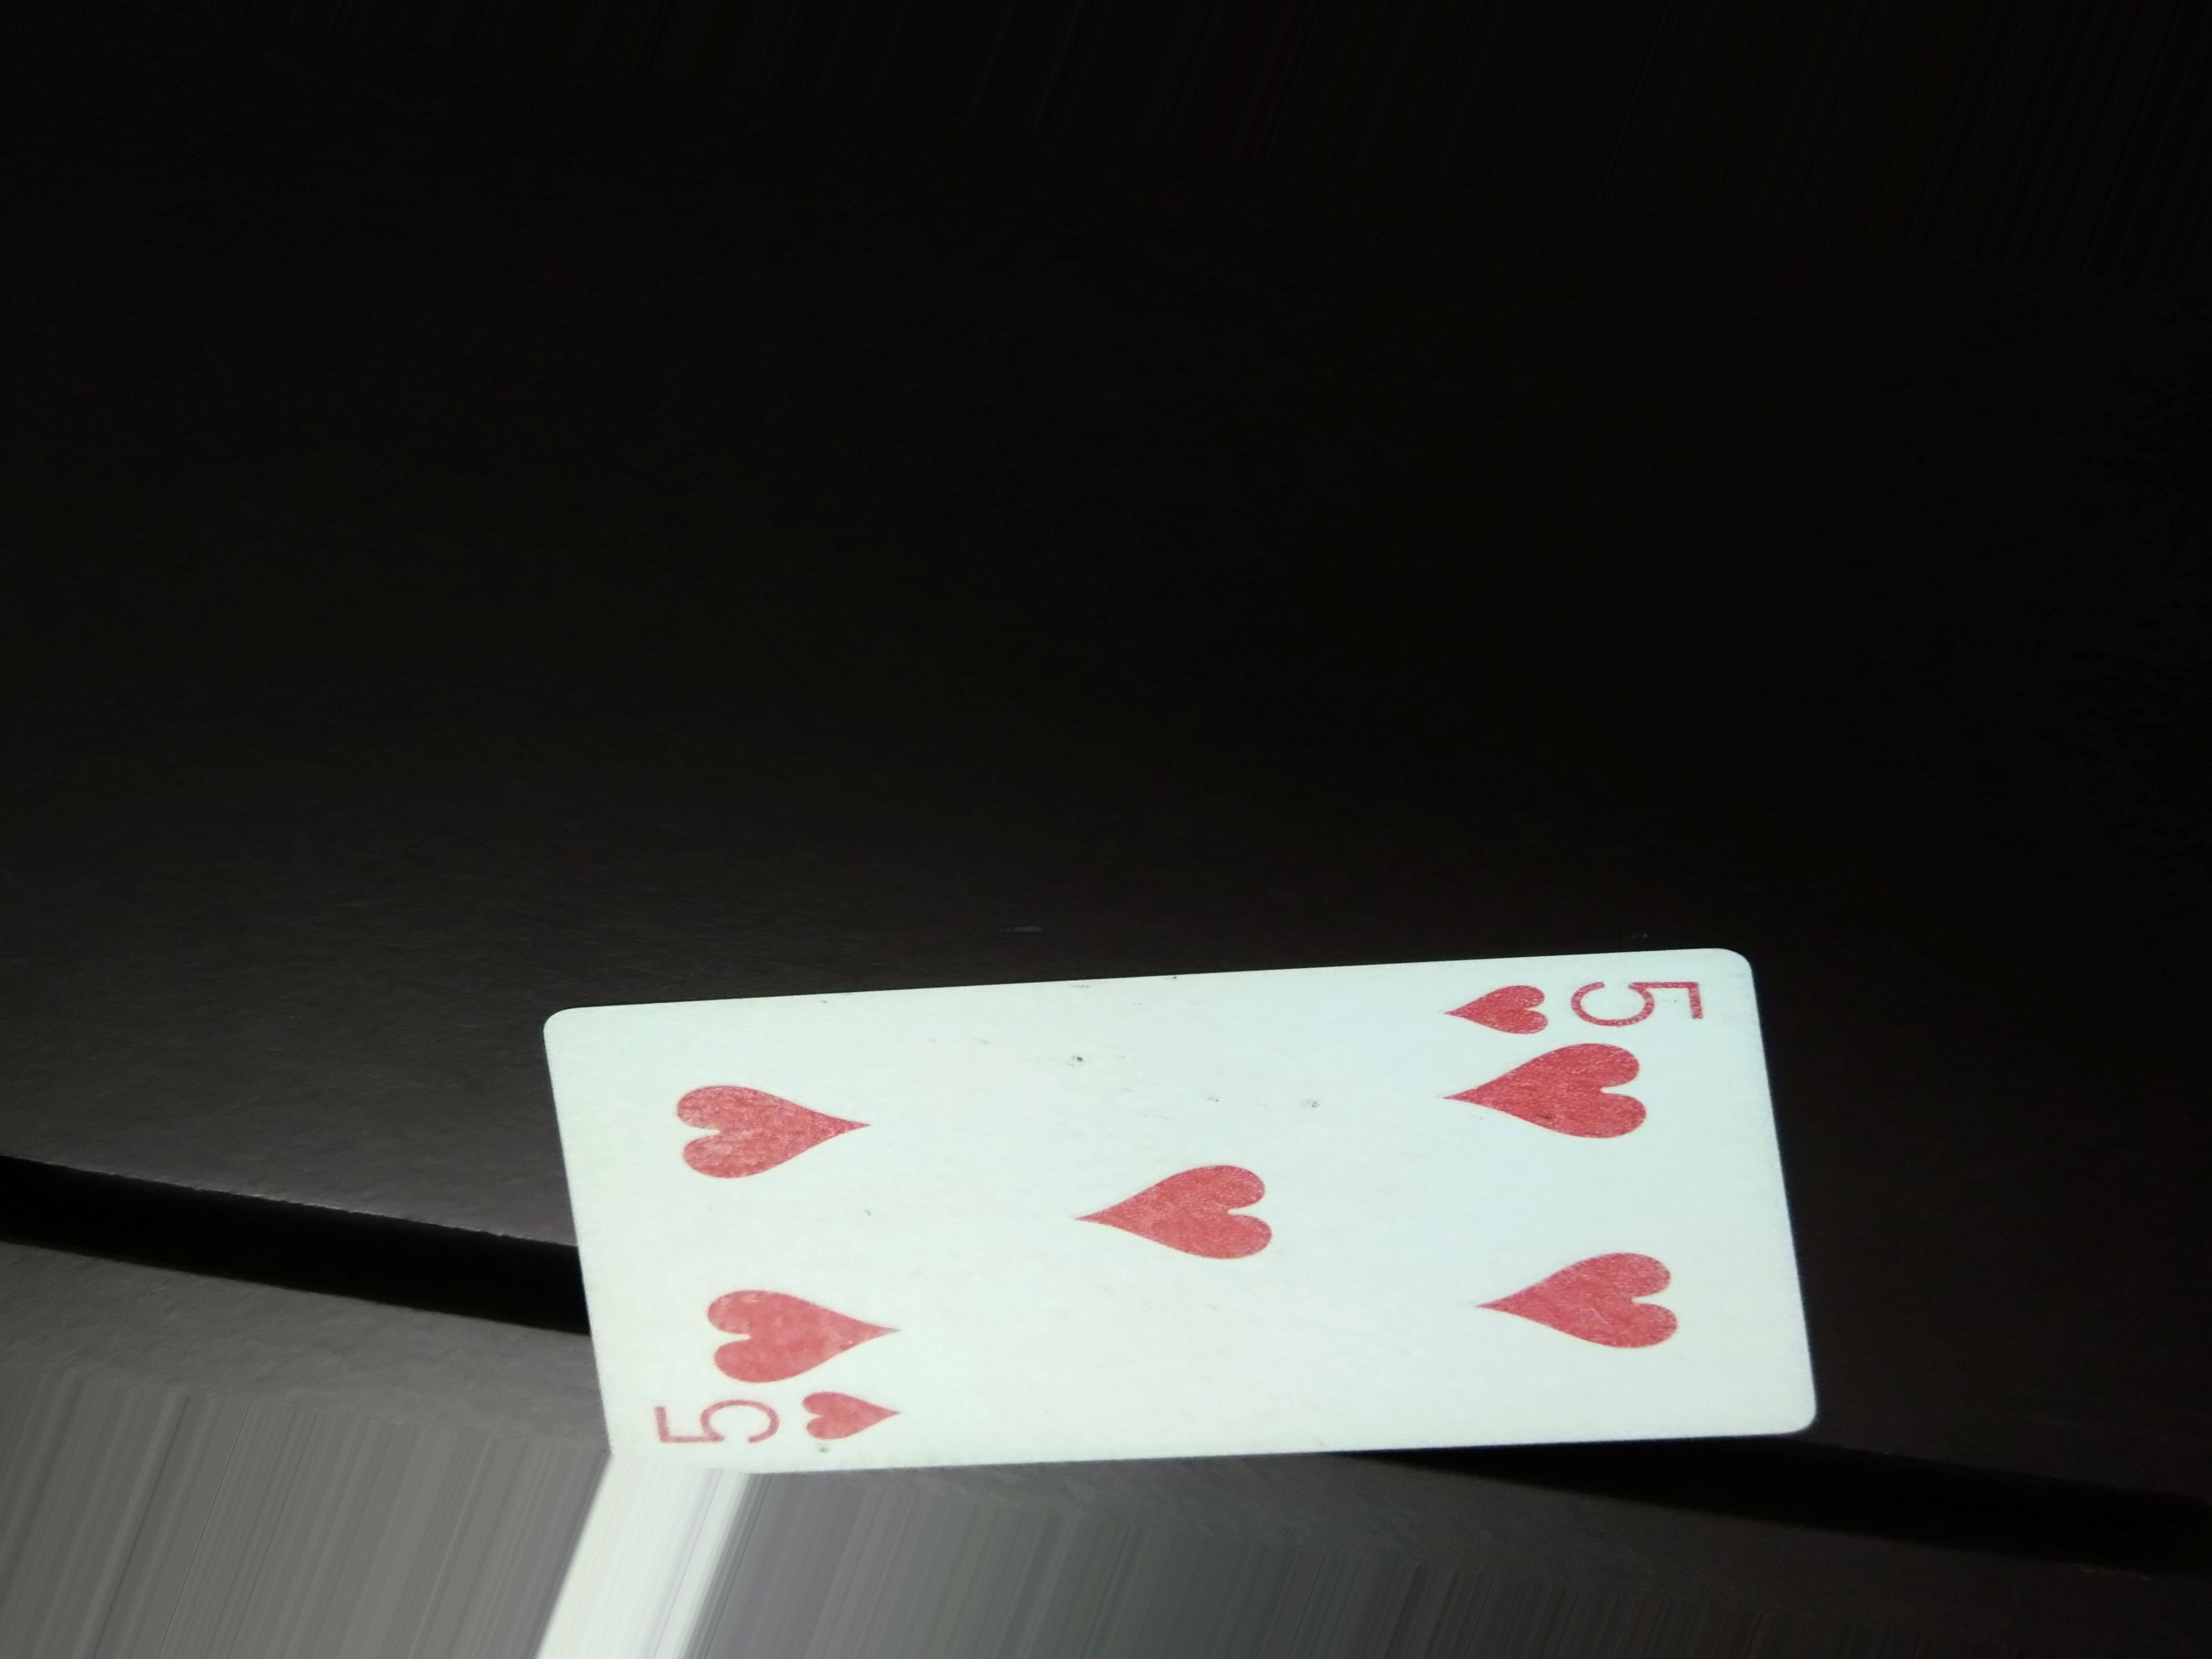5H: (1430, 962, 1742, 1053)
